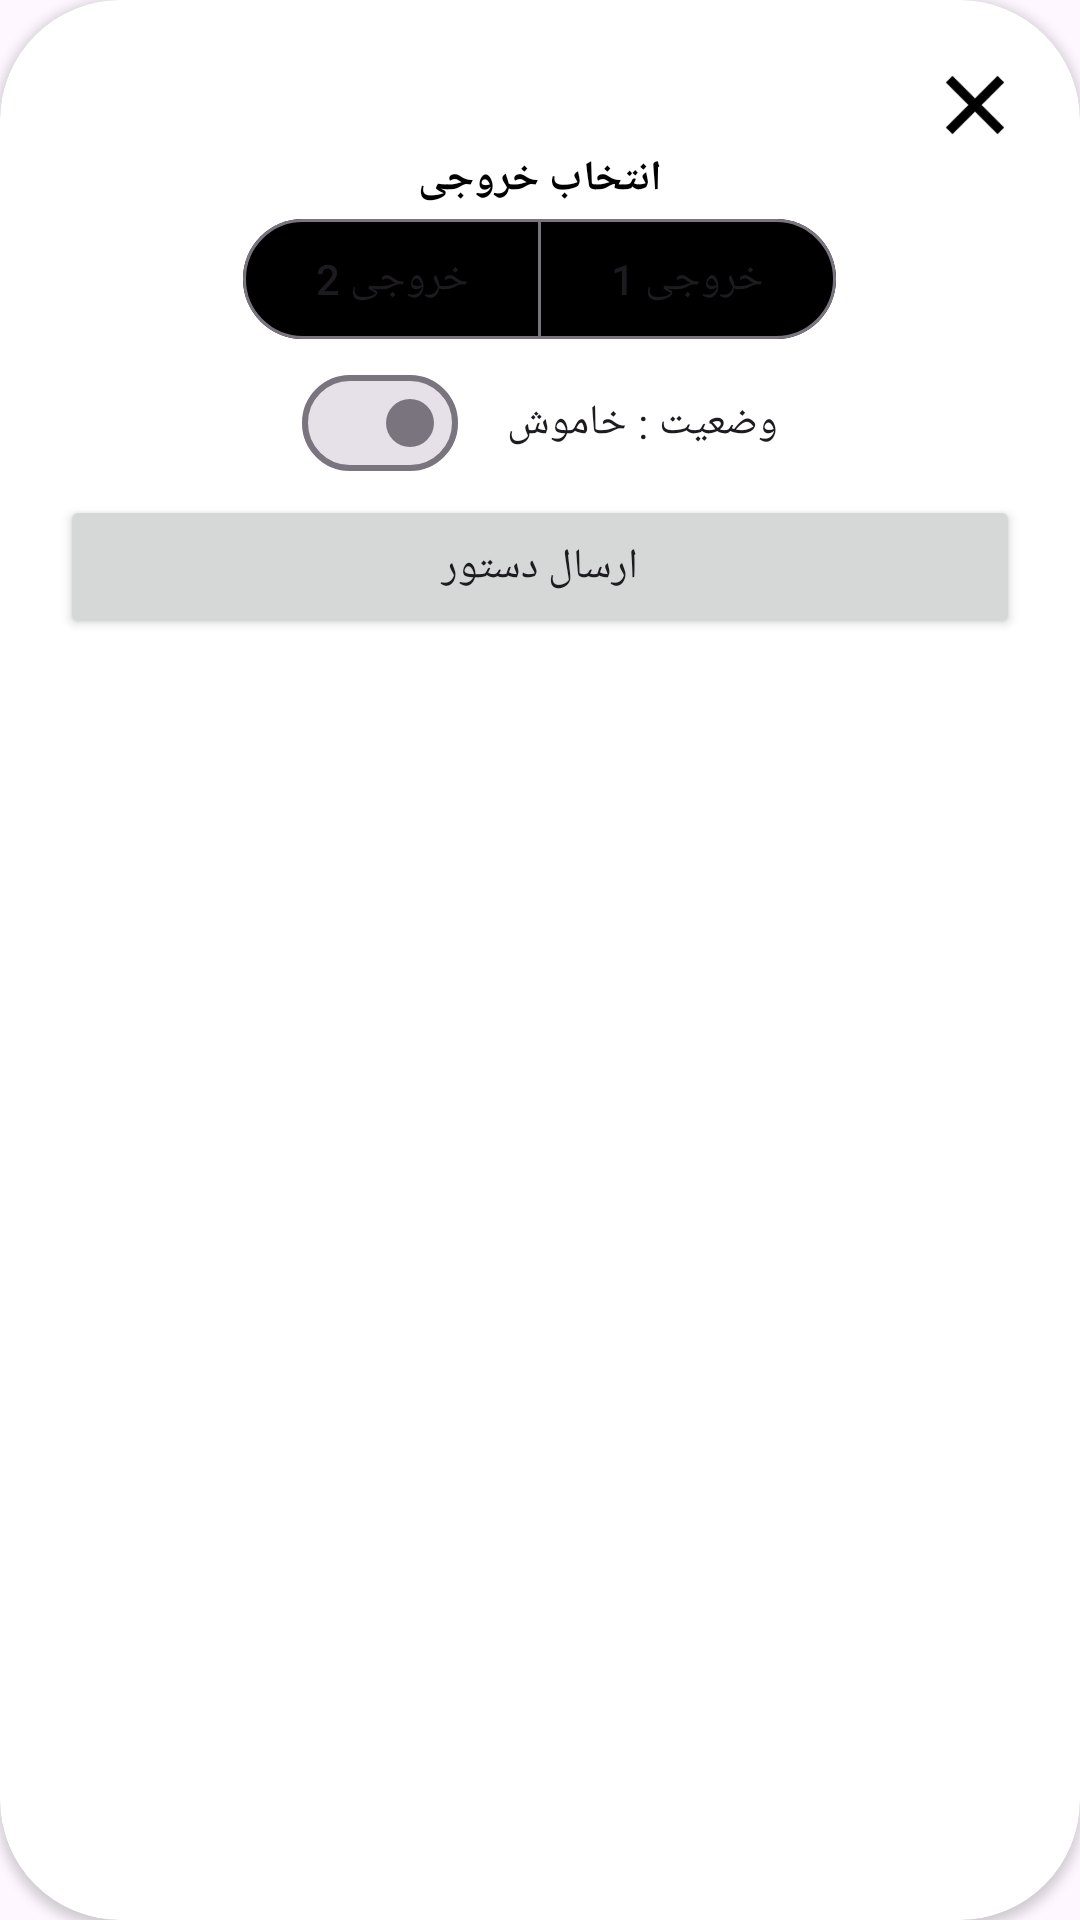

Named icons in this screenshot (1080px×1920px) and their centers, (x,y):
close: (975,105)
